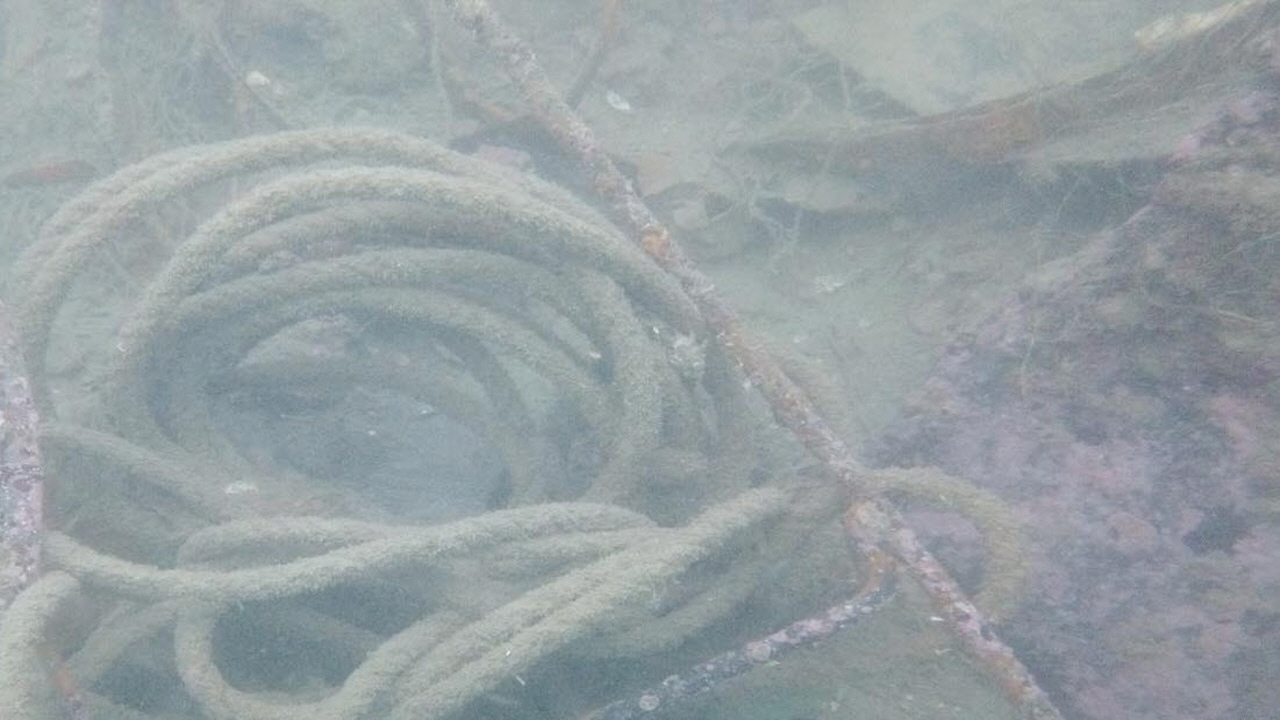bundle of ropes: (0, 118, 1029, 720)
